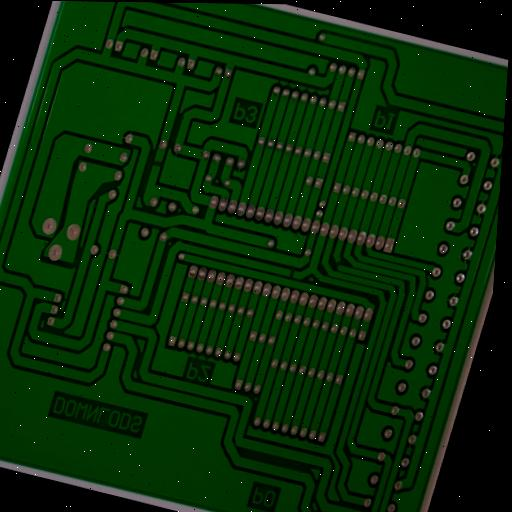open_circuit: (285, 265, 300, 281), (150, 157, 164, 171), (332, 257, 347, 270)
